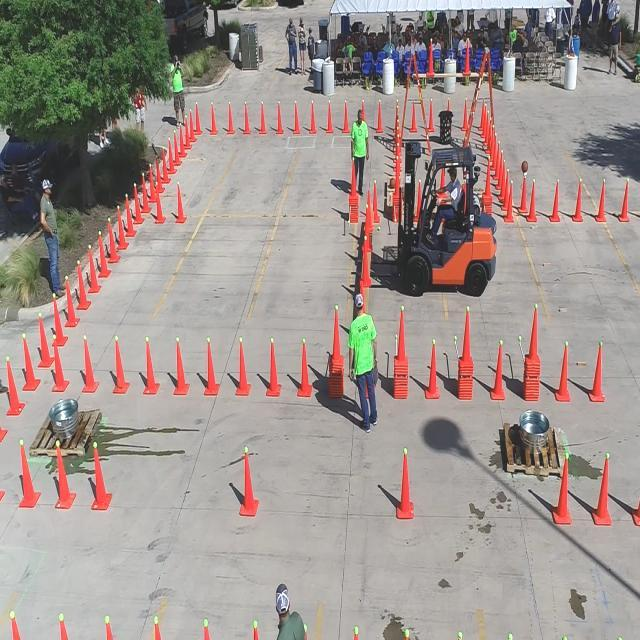driver: (429, 159, 461, 236)
forklift: (388, 150, 501, 298)
person: (351, 290, 377, 440), (39, 174, 60, 294), (351, 108, 372, 170), (608, 12, 624, 76), (172, 52, 185, 120), (286, 15, 298, 71)
